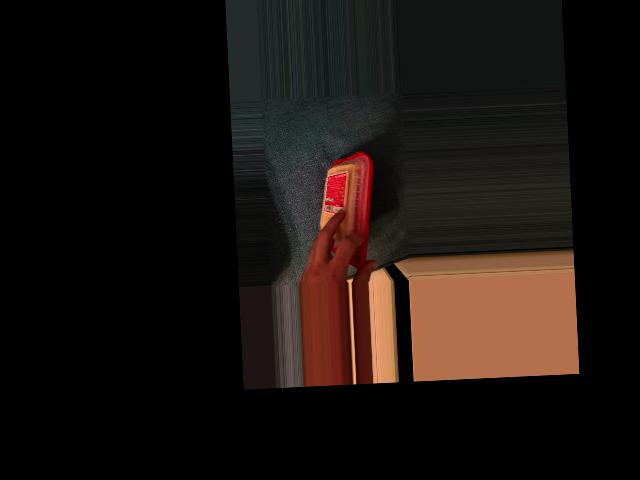cheese: (307, 149, 379, 272)
